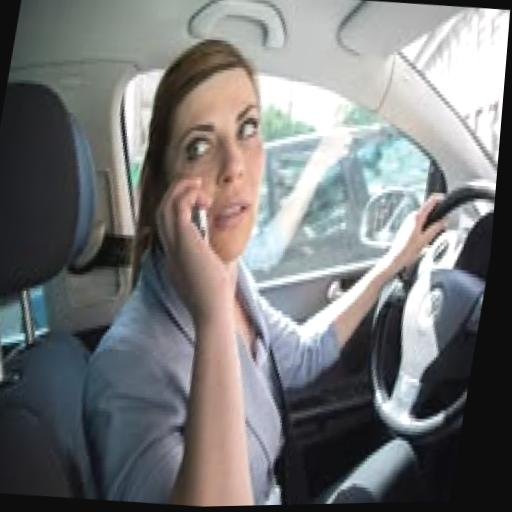Hands-on-the-Wheel: (364, 171, 476, 298)
